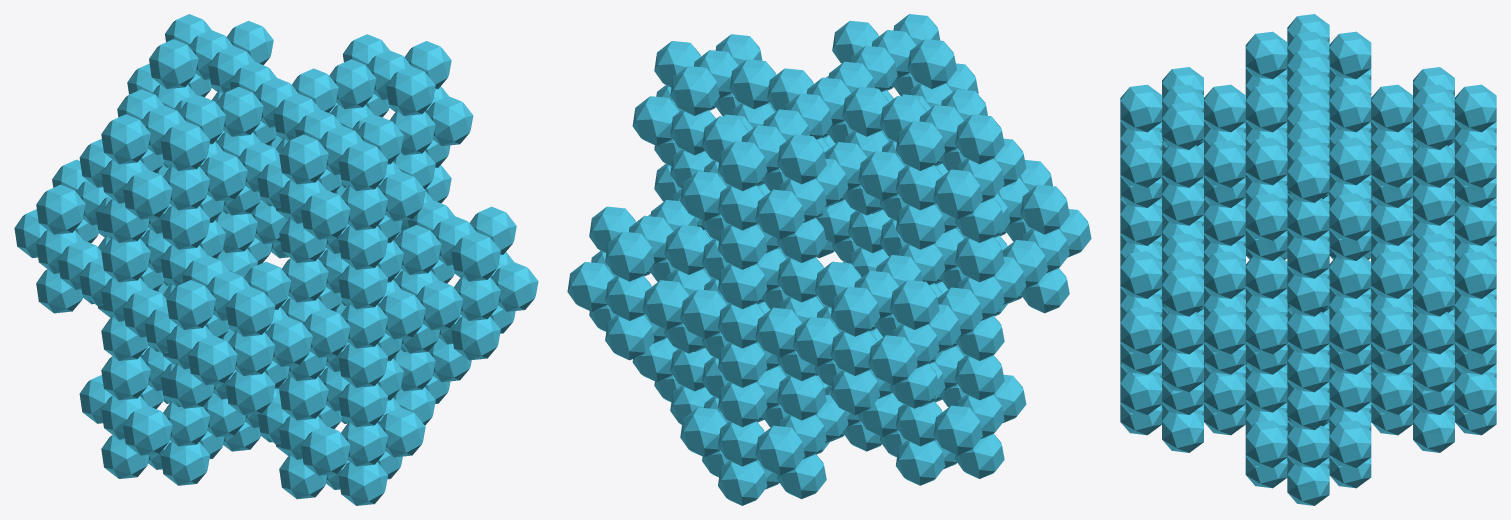
The model's file is fractalsnubcube4-2.glb.
3 views of the same model, side by side, from view 1: azimuth 30°, elevation 25°; view 2: azimuth 150°, elevation 25°; view 3: azimuth 270°, elevation 25° (orthographic). The views are drawn at different scales.
Size of the model in its own units: 7.2 by 7.2 by 7.2.
